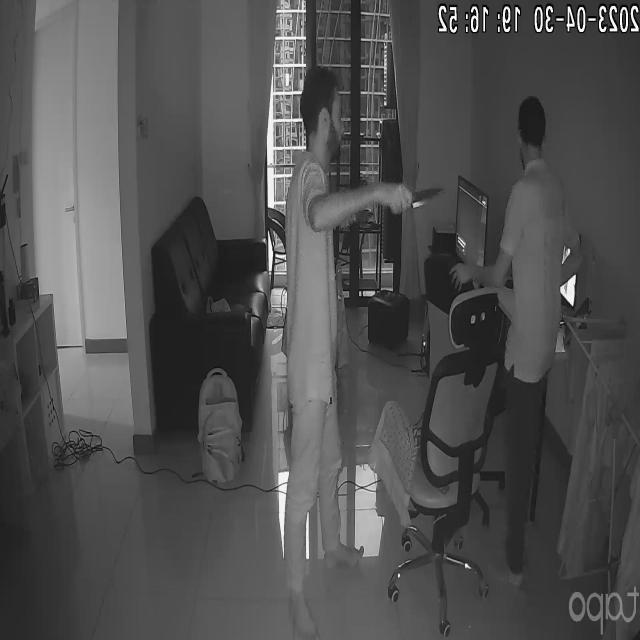Knife: (402, 178, 452, 218)
